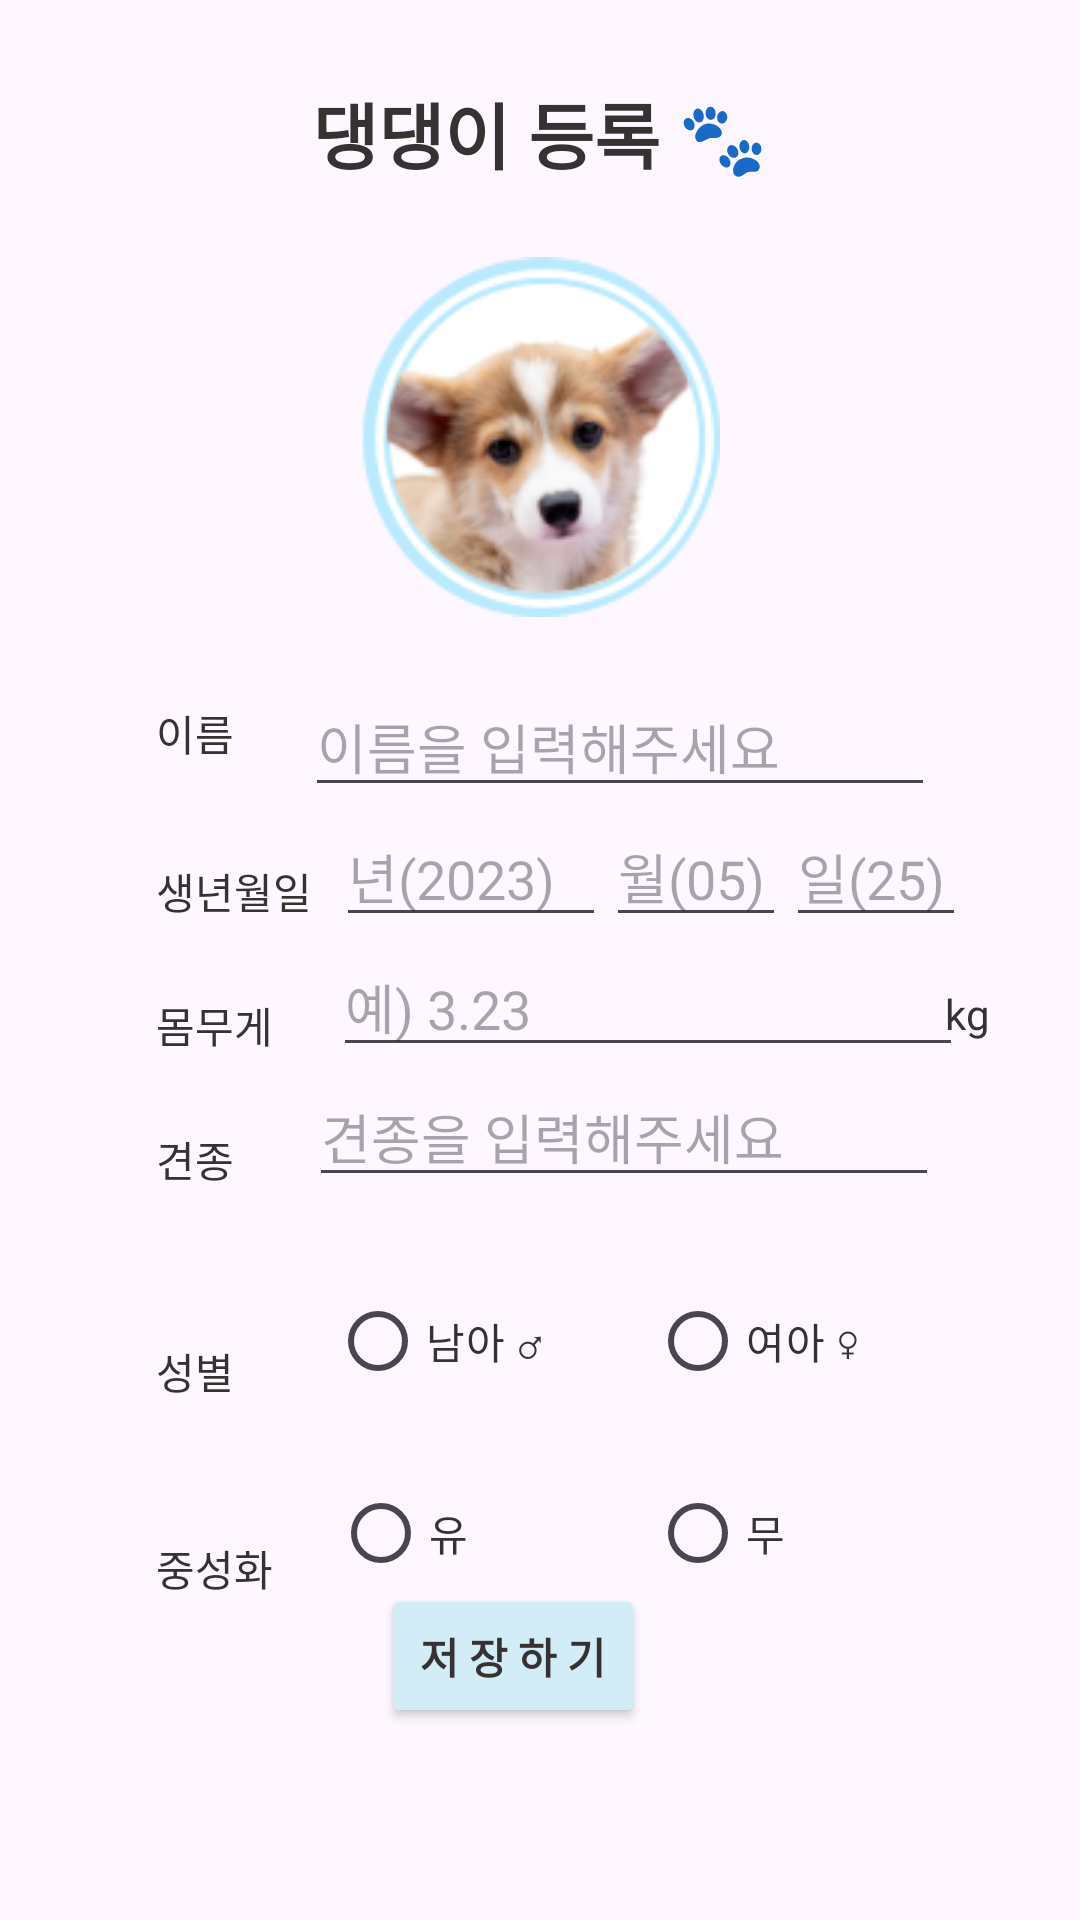

Locate icon controls on the screen. Image size 1080×1920, boxes as (x1, y1, x2, y2).
mypage dog: (363, 257, 720, 617)
